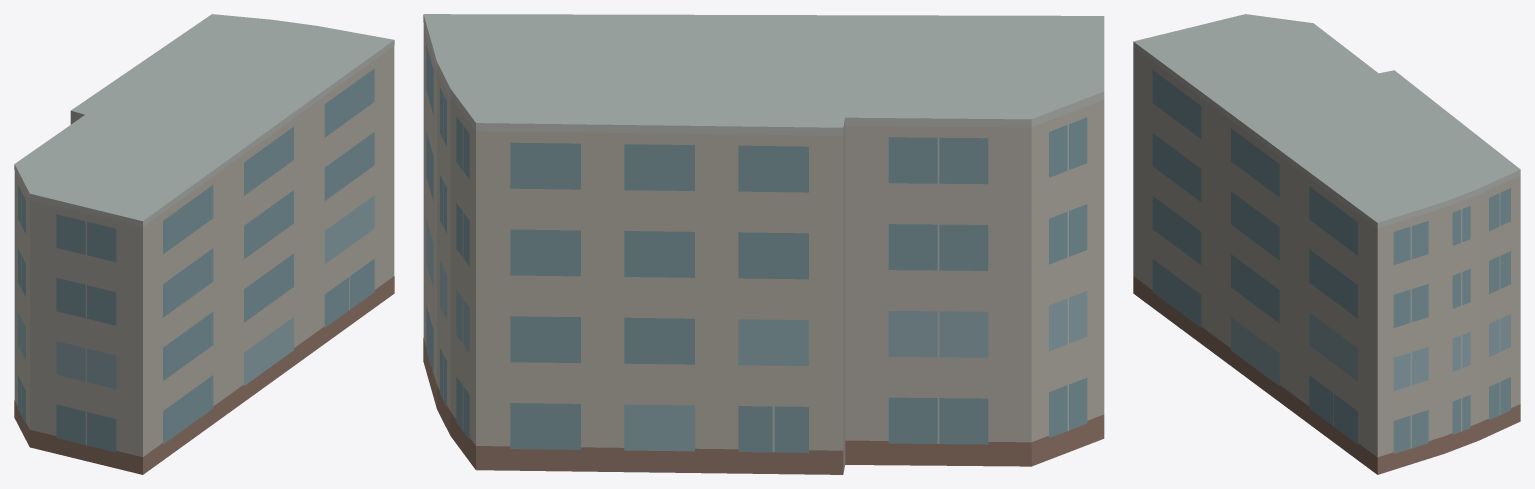
The model's file is survey-upis-32548717.glb.
3 views of the same model, side by side, from view 1: azimuth 30°, elevation 25°; view 2: azimuth 150°, elevation 25°; view 3: azimuth 270°, elevation 25° (orthographic). The views are drawn at different scales.
Parts seen in each view (by area): view 1: survey-upis-32548717.tmp; view 2: survey-upis-32548717.tmp; view 3: survey-upis-32548717.tmp.
Part boxes in pixels (bbox=[...]): survey-upis-32548717.tmp: bbox=[14, 14, 394, 474]; survey-upis-32548717.tmp: bbox=[423, 14, 1104, 474]; survey-upis-32548717.tmp: bbox=[1133, 14, 1520, 474].
Size of the model in its own units: 18.68 by 10.5 by 14.64.
